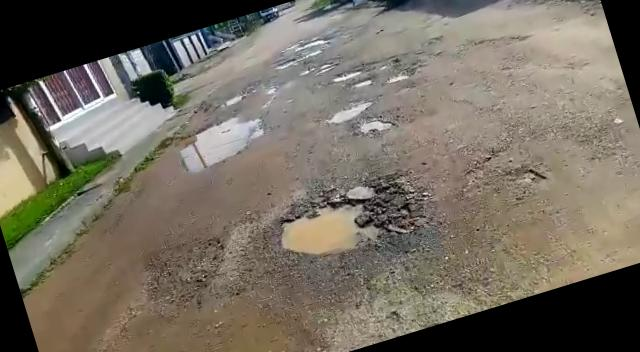pothole: (264, 173, 412, 276), (173, 105, 275, 174), (345, 106, 405, 142), (318, 97, 375, 129), (299, 55, 344, 78), (329, 62, 374, 82), (215, 91, 246, 110), (384, 71, 411, 87), (347, 75, 375, 89)
